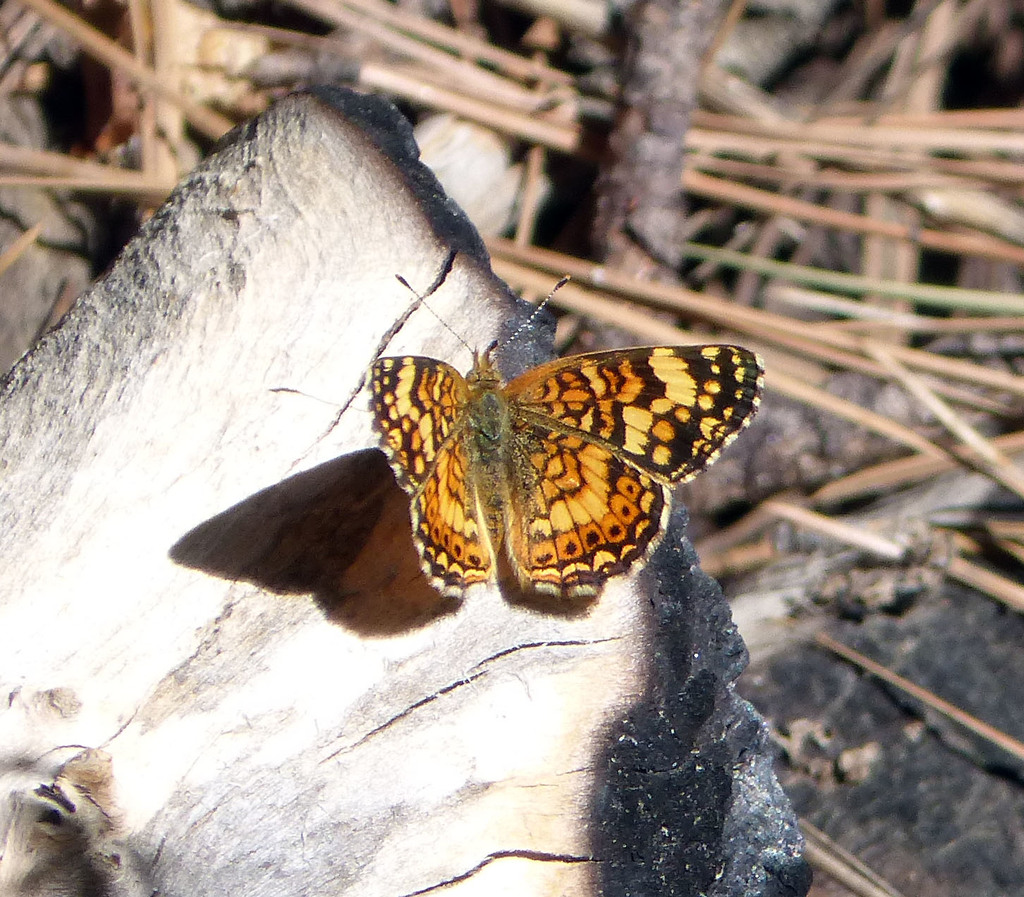Butterfly: (347, 249, 770, 626)
